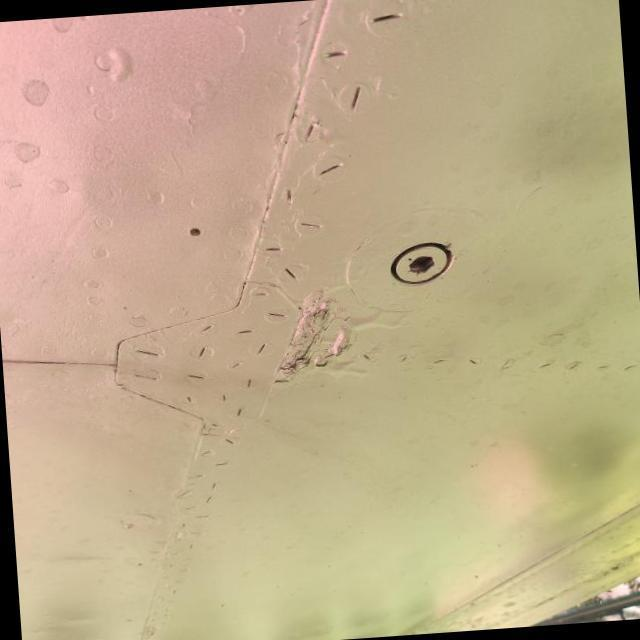Missing Fastener: (185, 224, 203, 244)
